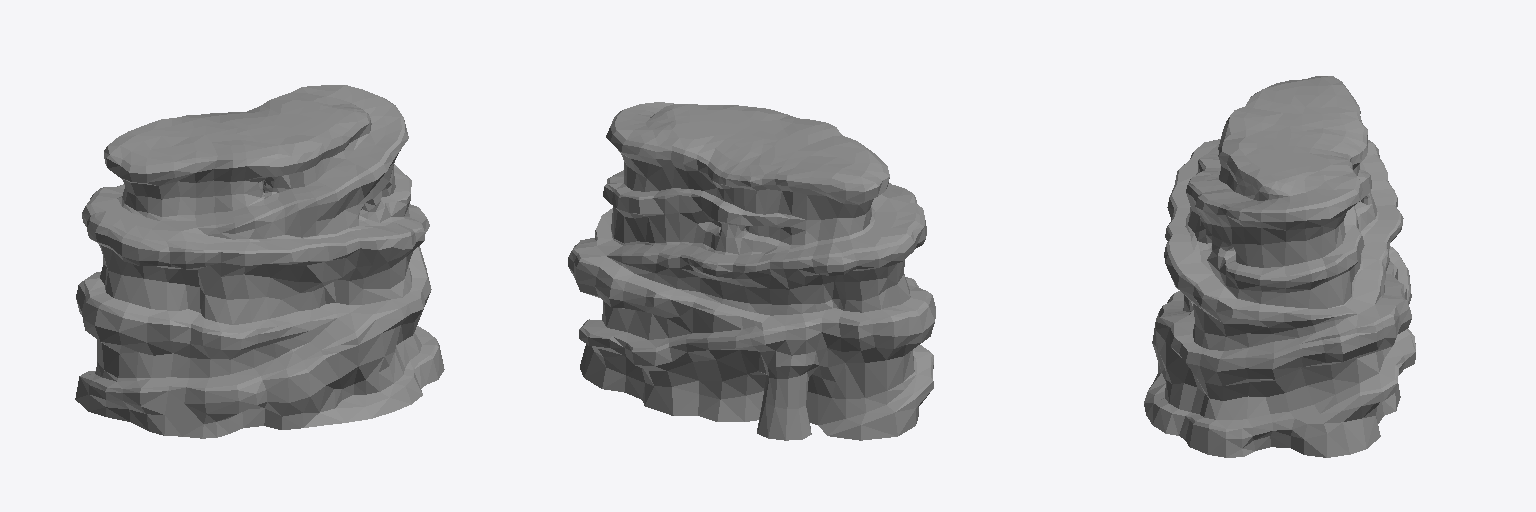
Rendered from rock.obj.
3 renders of one model, left to right at view 1: azimuth 30°, elevation 25°; view 2: azimuth 150°, elevation 25°; view 3: azimuth 270°, elevation 25°, orthographic.
Parts seen in each view (by area): view 1: rock_01:null_1; view 2: rock_01:null_1; view 3: rock_01:null_1.
Part boxes in pixels (x1,y1,x2,y2): rock_01:null_1: (75,85,444,438); rock_01:null_1: (568,102,935,440); rock_01:null_1: (1144,76,1415,457).
Size of the model in its own units: 1.98 by 1.44 by 1.43.